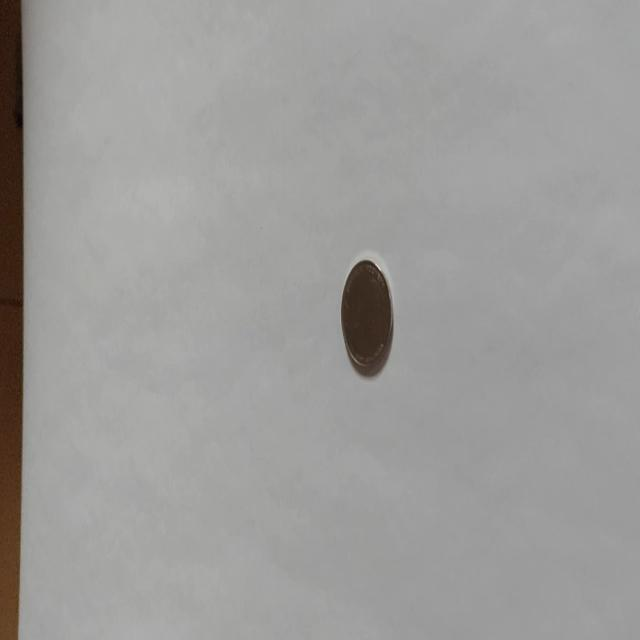seribu rupiah koin: (340, 253, 394, 375)
